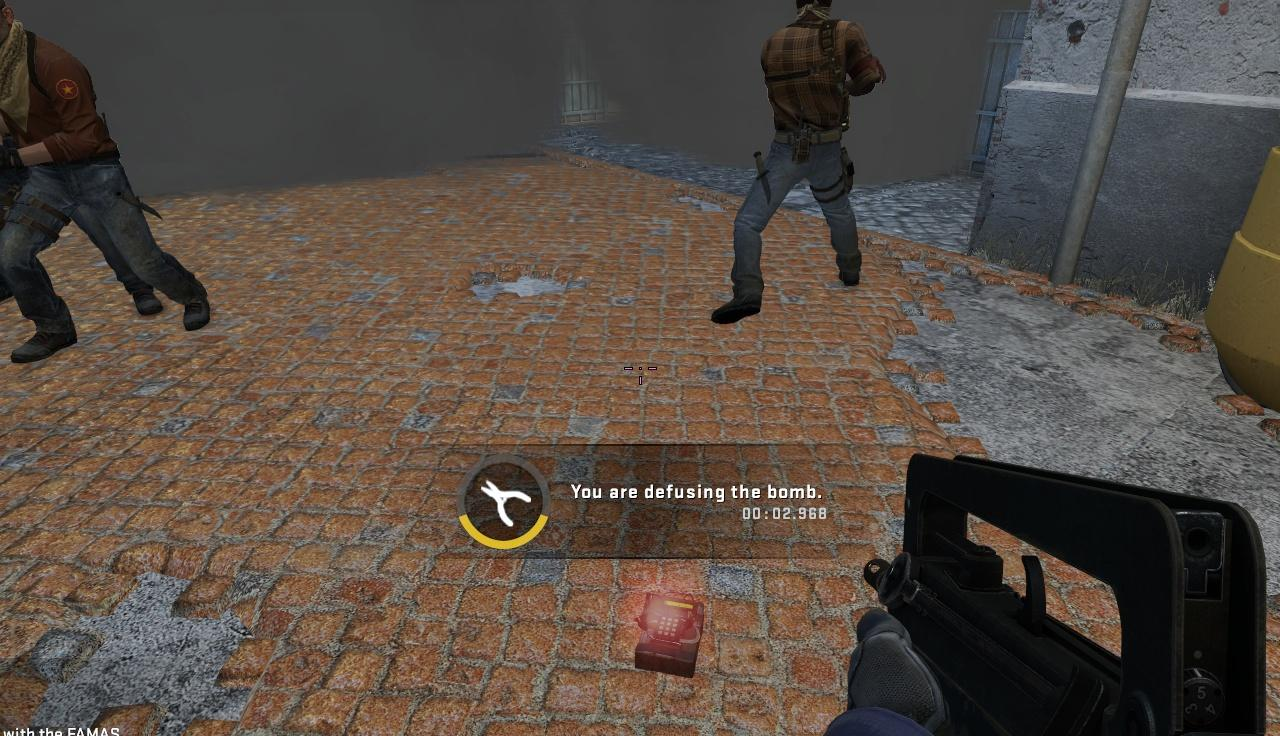rifle: (867, 446, 1278, 732)
tt: (748, 7, 873, 321), (0, 6, 104, 327)
tthead: (799, 0, 839, 25)
